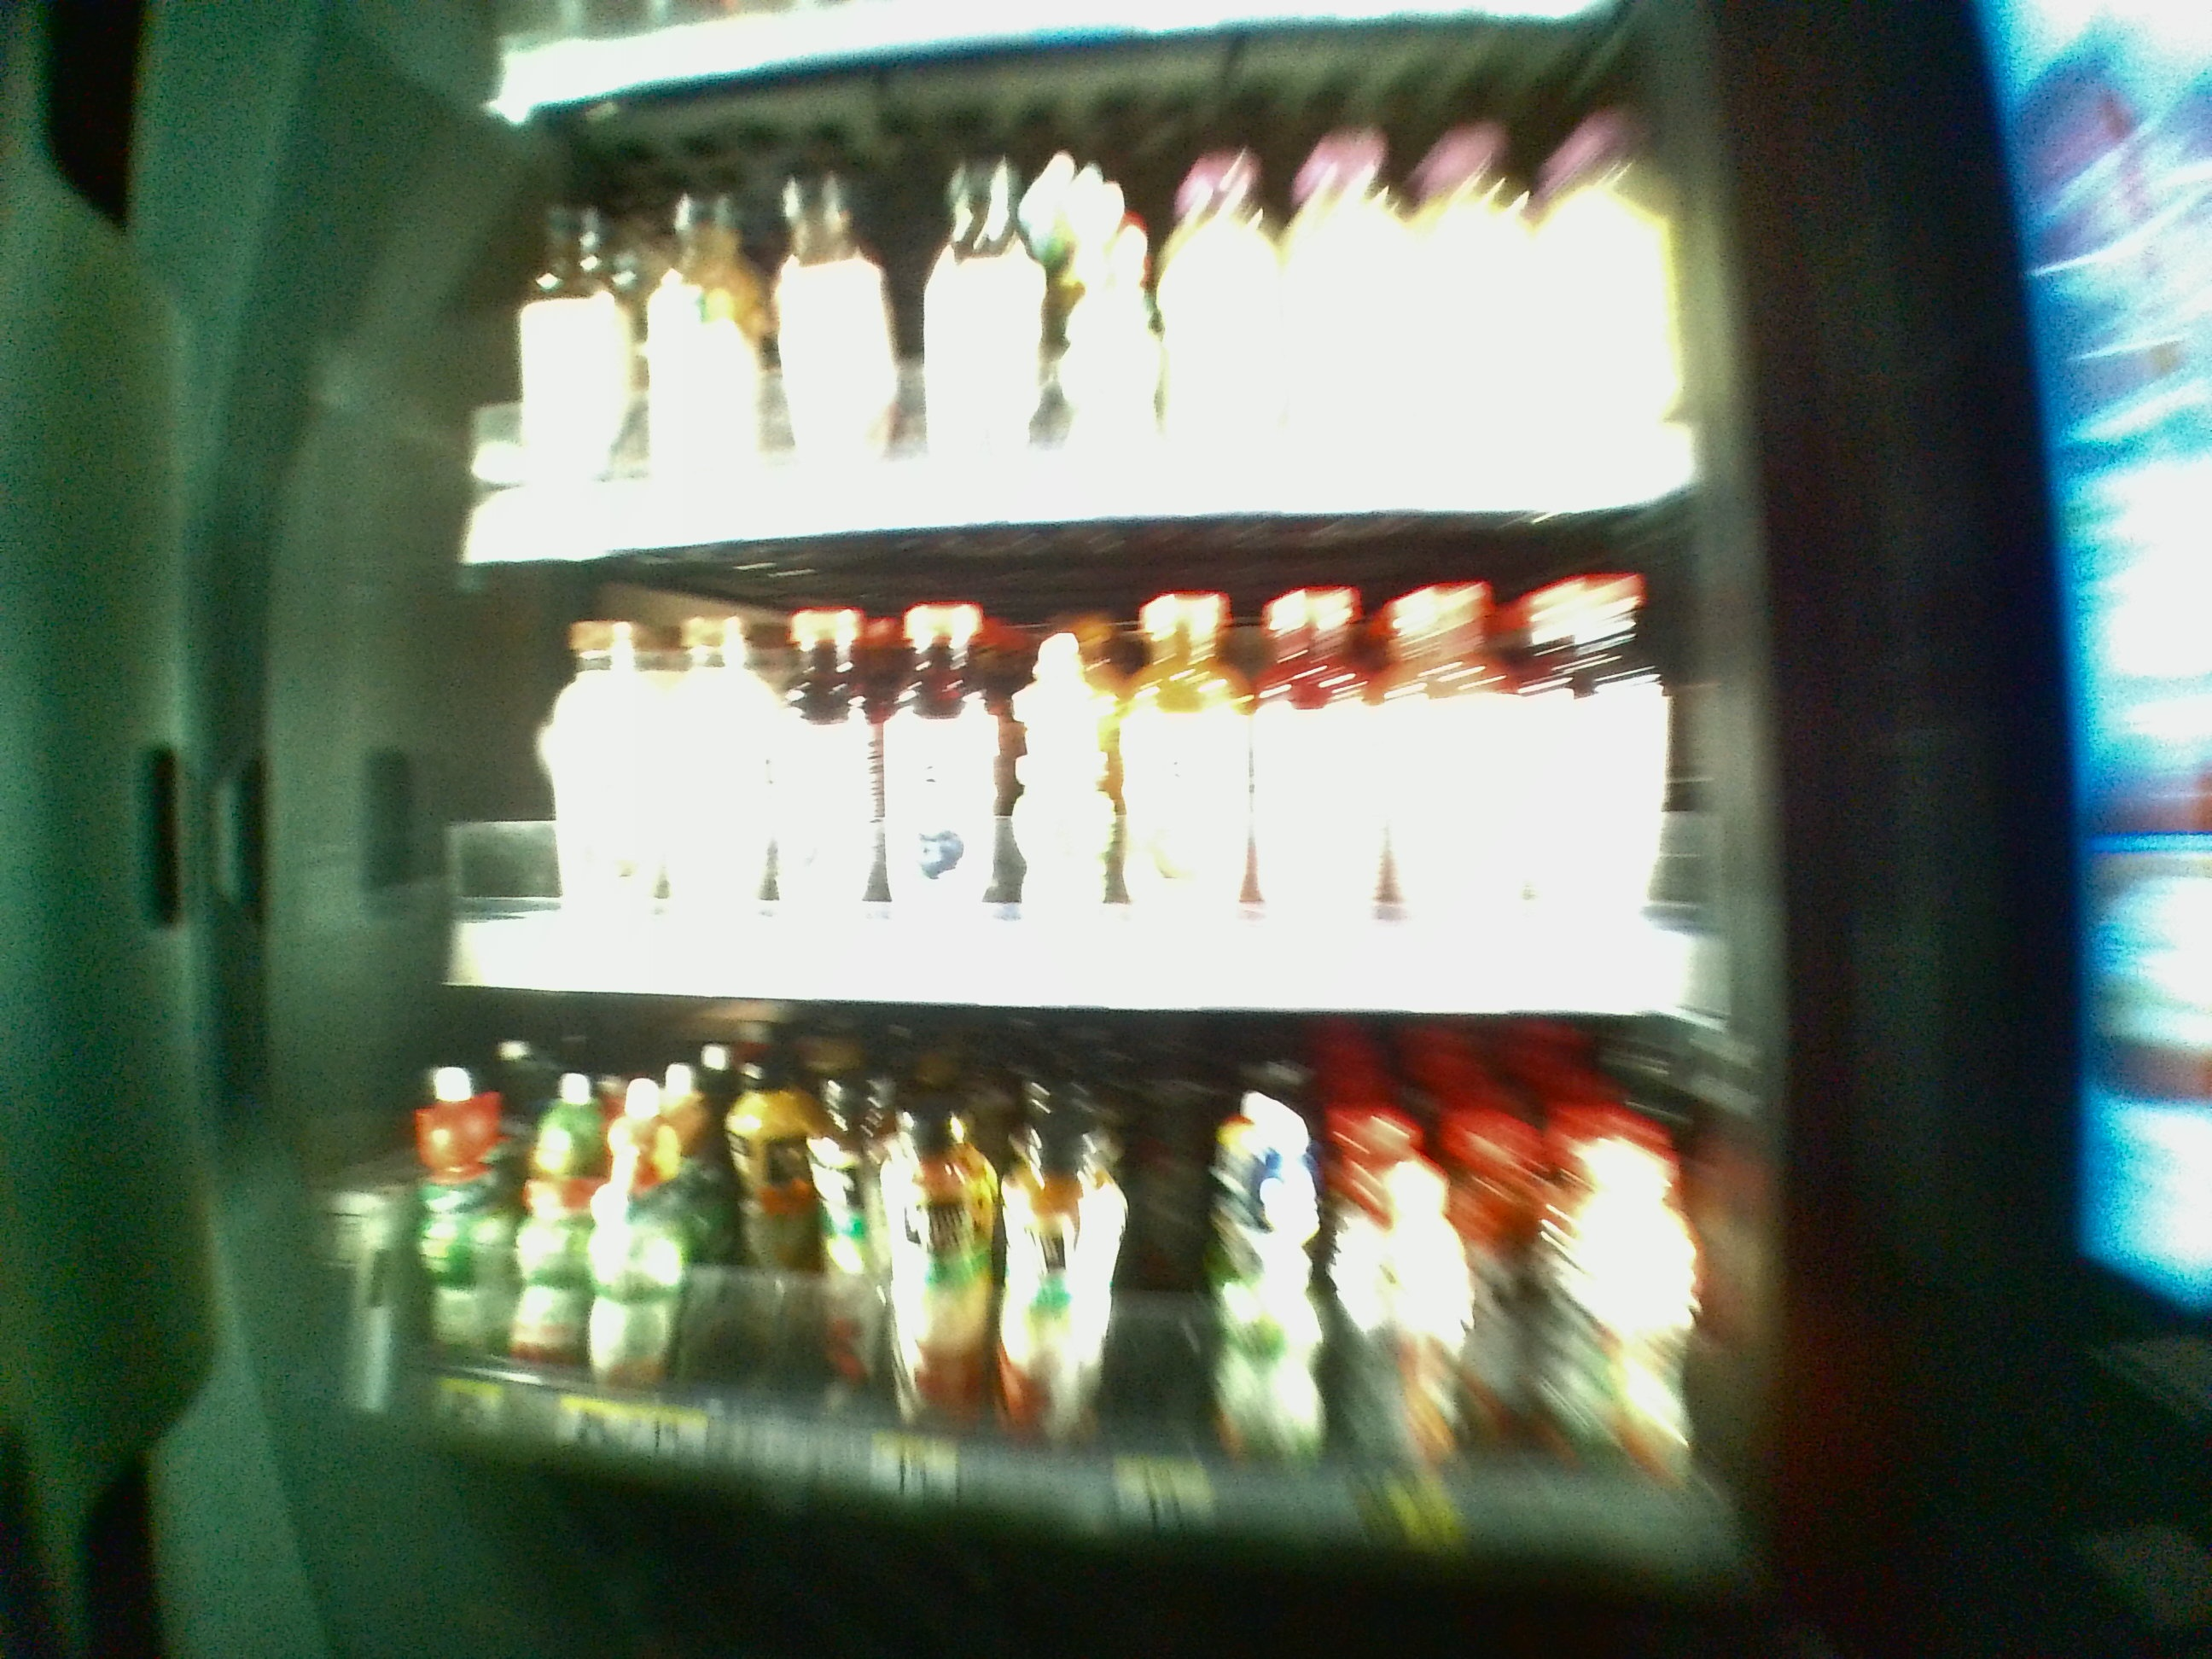shelf: (425, 1009, 1716, 1464), (456, 117, 1689, 558), (455, 563, 1686, 995)
